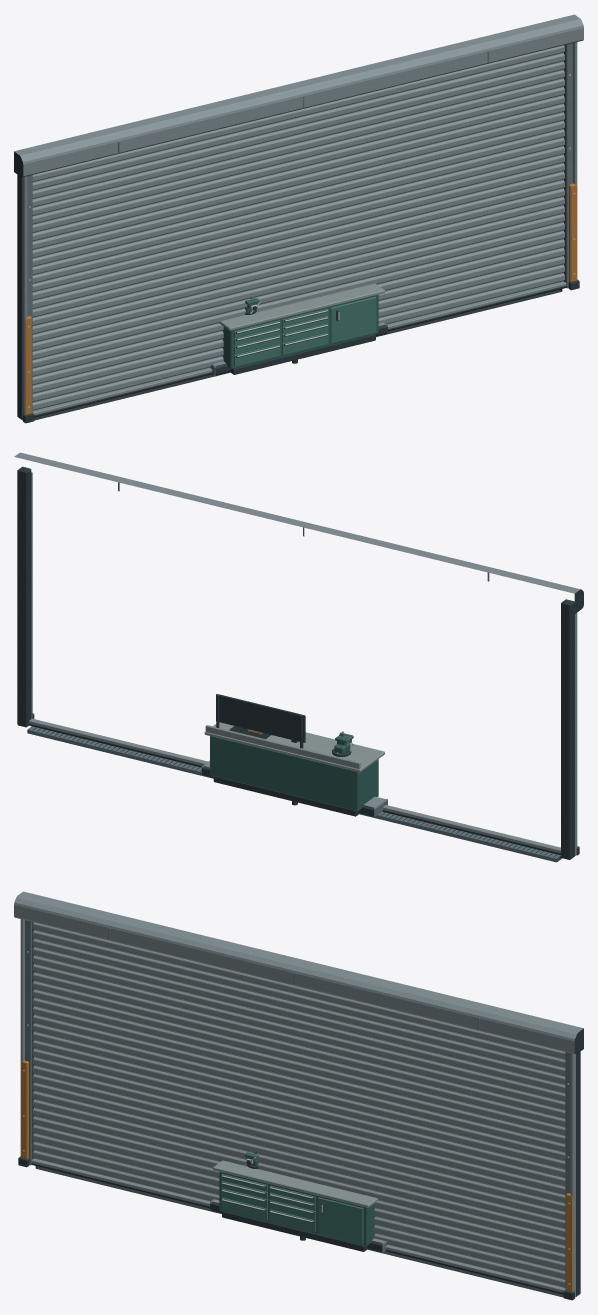
The model's file is workshop_equipment.glb.
3 renders of one model, top to bottom at view 1: azimuth 30°, elevation 25°; view 2: azimuth 150°, elevation 25°; view 3: azimuth 330°, elevation 25°, orthographic.
Visible parts, largest first — view 1: ShutterCurtain, ShutterFrame, MachineBench, TrenchGrate; view 2: ShutterFrame, MachineBench, TrenchGrate; view 3: ShutterCurtain, ShutterFrame, MachineBench, TrenchGrate.
Boxes of the visible parts, x1=… form: ShutterCurtain: x1=32, y1=45, x2=564, y2=410; ShutterFrame: x1=14, y1=14, x2=583, y2=423; MachineBench: x1=219, y1=283, x2=384, y2=374; TrenchGrate: x1=34, y1=289, x2=562, y2=420; ShutterFrame: x1=14, y1=452, x2=583, y2=859; MachineBench: x1=204, y1=694, x2=384, y2=816; TrenchGrate: x1=27, y1=726, x2=561, y2=862; ShutterCurtain: x1=33, y1=922, x2=565, y2=1287; ShutterFrame: x1=14, y1=891, x2=583, y2=1300; MachineBench: x1=213, y1=1151, x2=378, y2=1251; TrenchGrate: x1=35, y1=1166, x2=563, y2=1297.
Bounding box in the file's own units: 11.44 × 5.44 × 0.89.
Materials: 1 (1 with a texture image).
